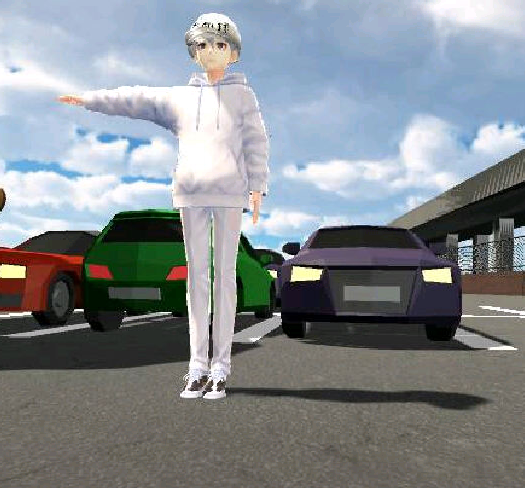singleP_left: (53, 10, 273, 405)
